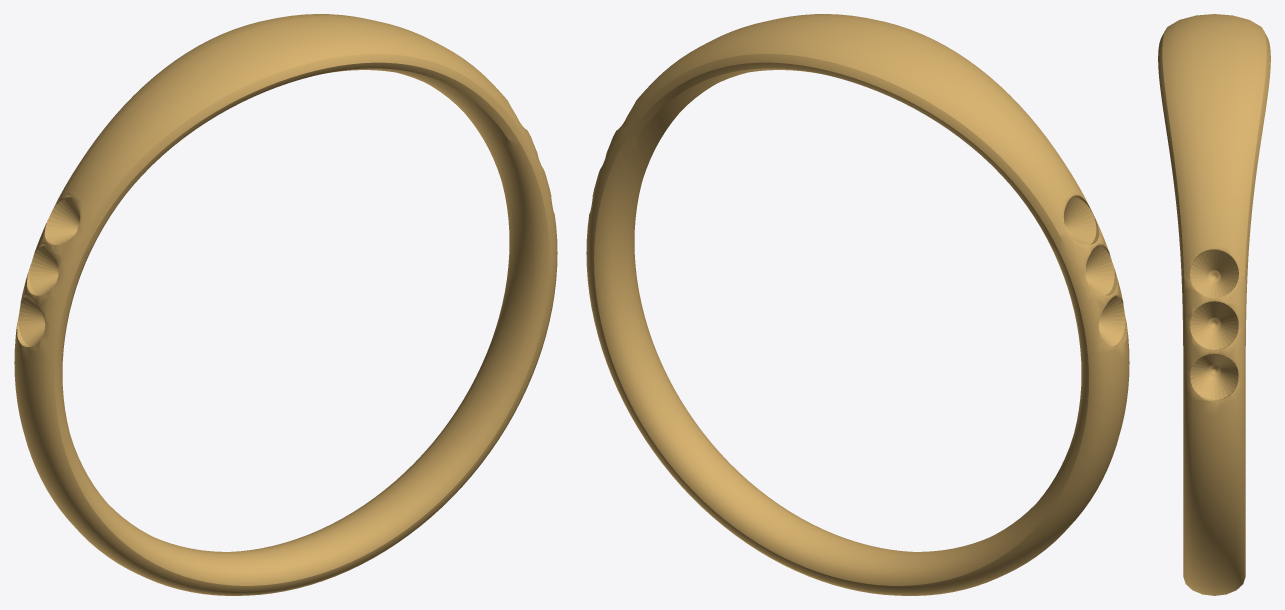
Rendered from reverse-tapered-flush-accents-wide.glb.
3 renders of one model, left to right at view 1: azimuth 30°, elevation 25°; view 2: azimuth 150°, elevation 25°; view 3: azimuth 270°, elevation 25°, orthographic. The views are drawn at different scales.
Parts seen in each view (by area): view 1: Band; view 2: Band; view 3: Band.
Part boxes in pixels (<box>): Band: <box>14,14,557,595</box>; Band: <box>586,14,1129,595</box>; Band: <box>1158,14,1270,595</box>.
Size of the model in its own units: 19.6 by 19.6 by 3.8.
